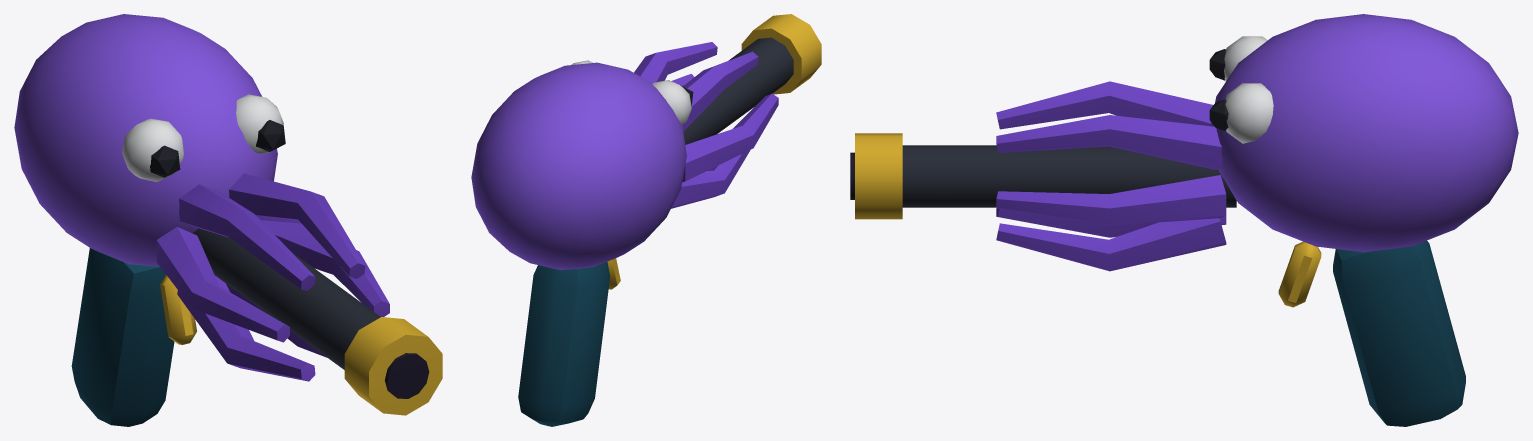
File: w_n_squid.glb
The picture shows the model from 3 angles, left to right: view 1: azimuth 30°, elevation 25°; view 2: azimuth 150°, elevation 25°; view 3: azimuth 270°, elevation 25°; orthographic projection. The views are drawn at different scales.
Parts seen in each view (by area): view 1: body; view 2: body; view 3: body.
Boxes of the visible parts, x1,y1,x2,y2 form: body: [14, 14, 442, 426]; body: [471, 14, 821, 426]; body: [850, 14, 1518, 426].
Bounding box in the file's own units: 0.21 × 0.386 × 0.5887.
